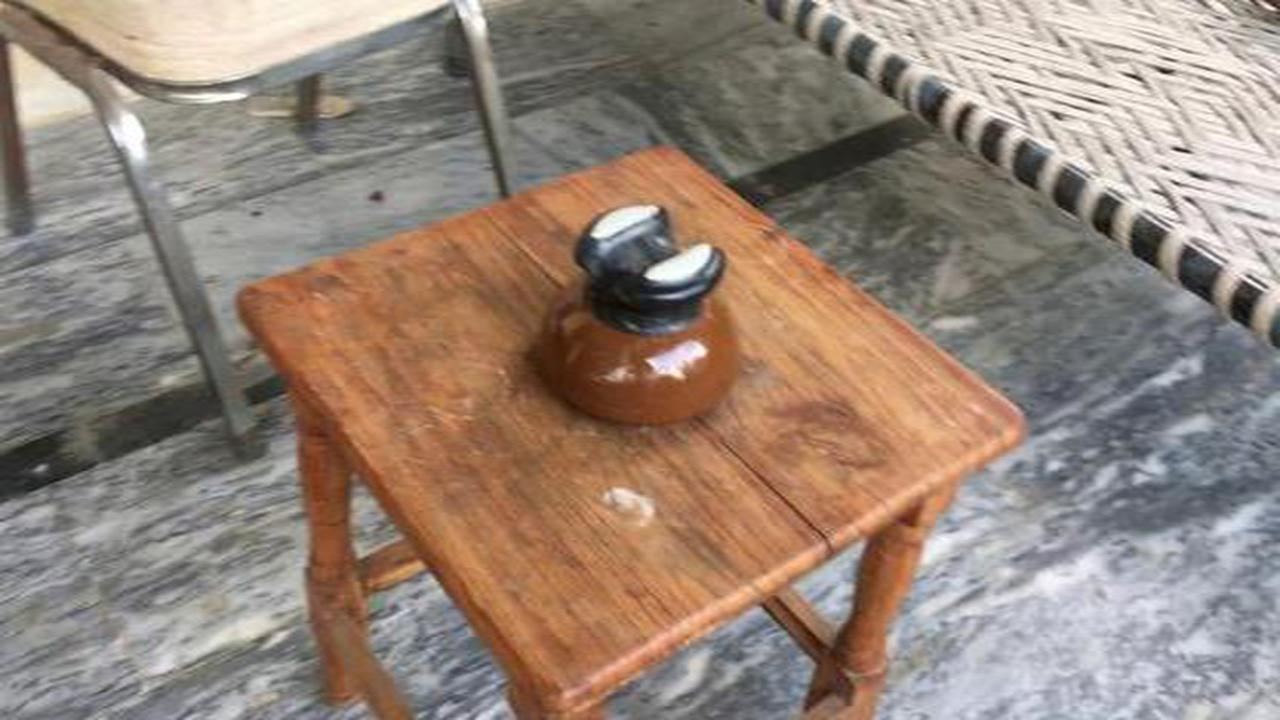insulator_pin: (521, 189, 761, 447)
